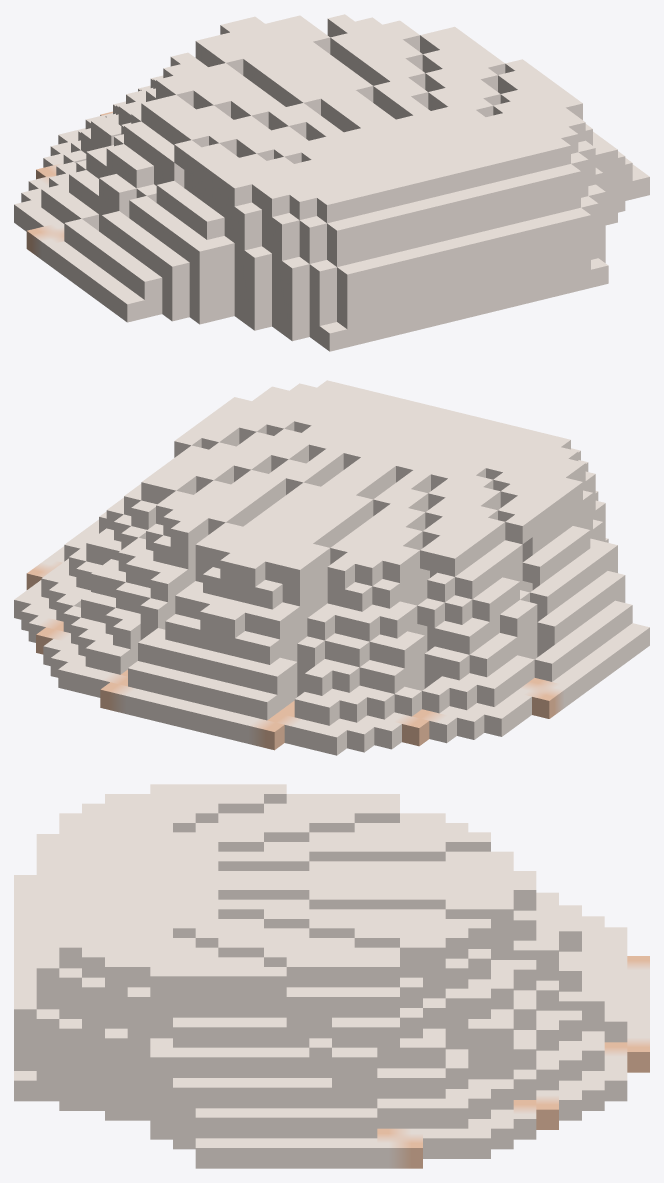
The model's file is seashell.fbx.
3 views of the same model, one above another, from view 1: azimuth 30°, elevation 25°; view 2: azimuth 150°, elevation 25°; view 3: azimuth 270°, elevation 25° (orthographic). The views are drawn at different scales.
Visible parts, largest first — view 1: seashell; view 2: seashell; view 3: seashell.
Part boxes in pixels (left/top/right/bottom): seashell: left=14, top=14, right=649, bottom=351; seashell: left=14, top=380, right=649, bottom=755; seashell: left=14, top=784, right=649, bottom=1168.
Size of the model in its own units: 30 by 7 by 28.
Materials: 1 (1 with a texture image).
